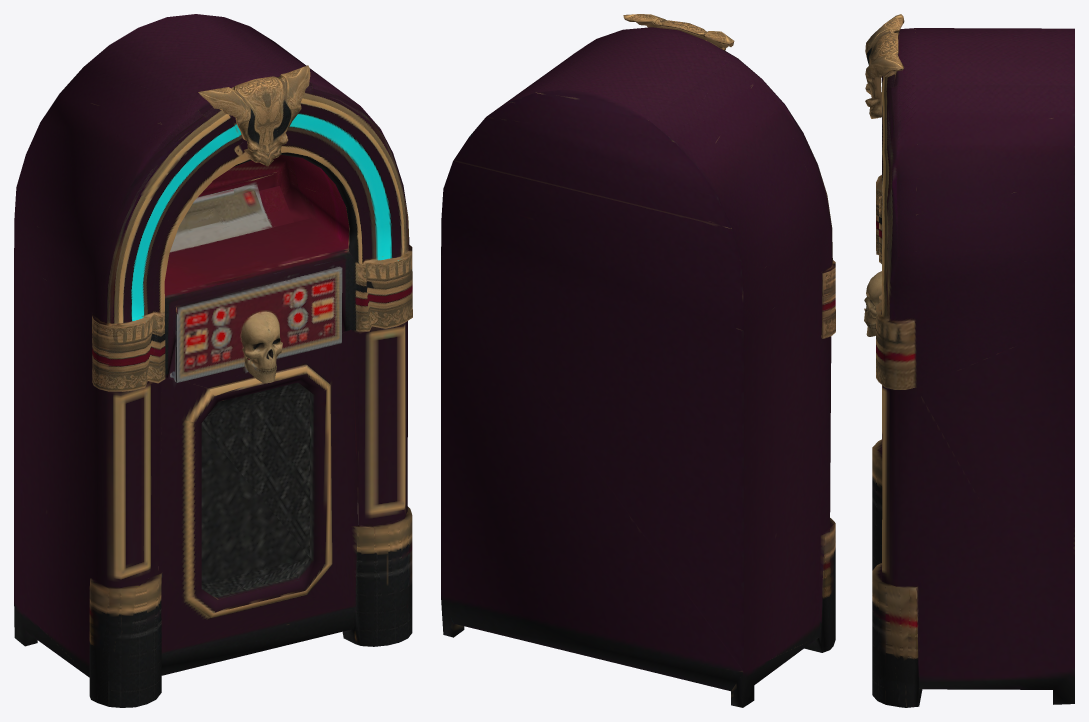
3 views of the same model, side by side, from view 1: azimuth 30°, elevation 25°; view 2: azimuth 150°, elevation 25°; view 3: azimuth 270°, elevation 25° (orthographic).
Size of the model in its own units: 0.5352 by 0.9526 by 0.3081.
Materials: 1 (1 with a texture image).
